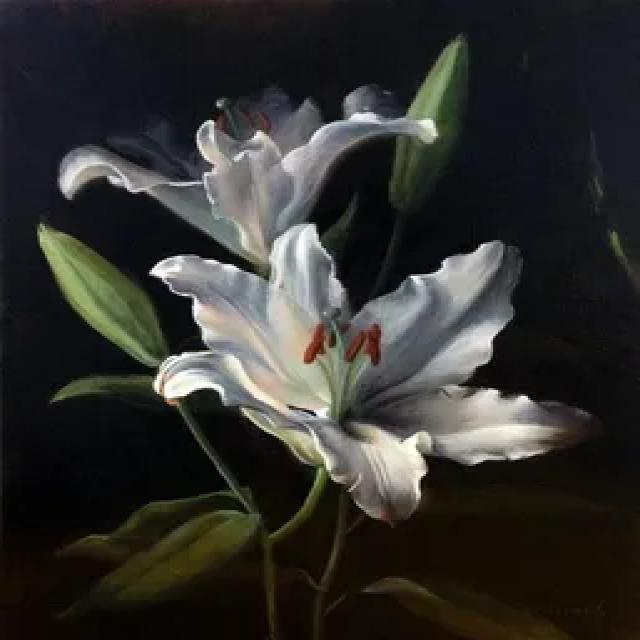lily: (129, 222, 593, 533)
